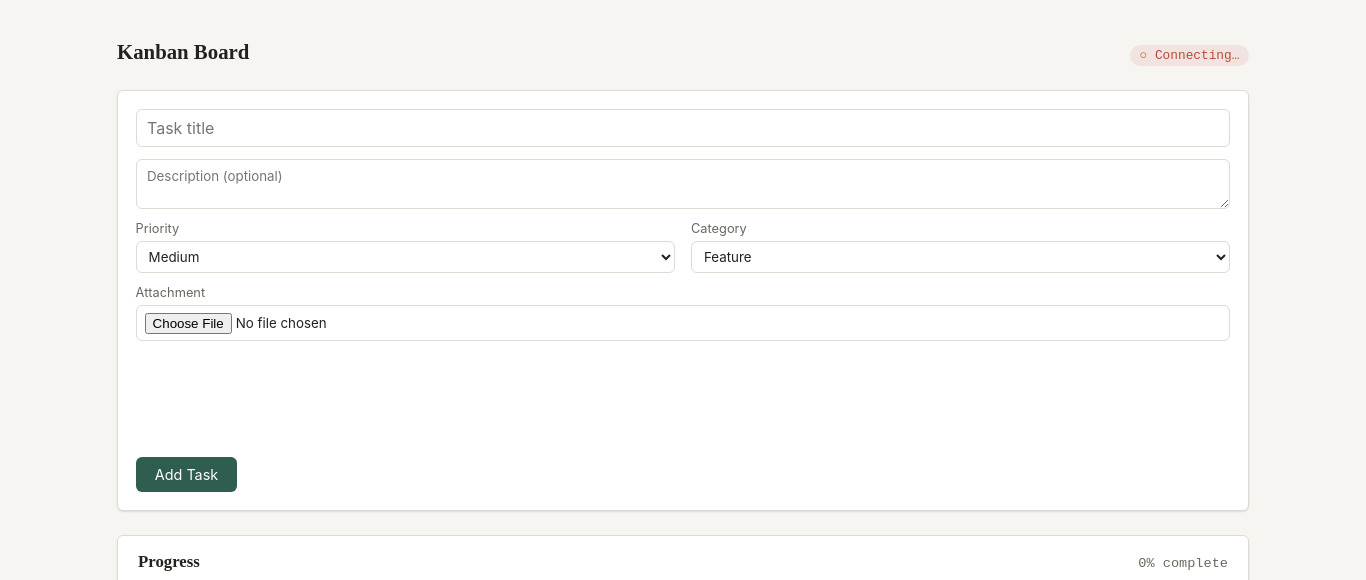
it: rejects task creation gracefully when the server acknowledges failure
Click the button "Add Task" at (186, 475), box [136,457,237,492]
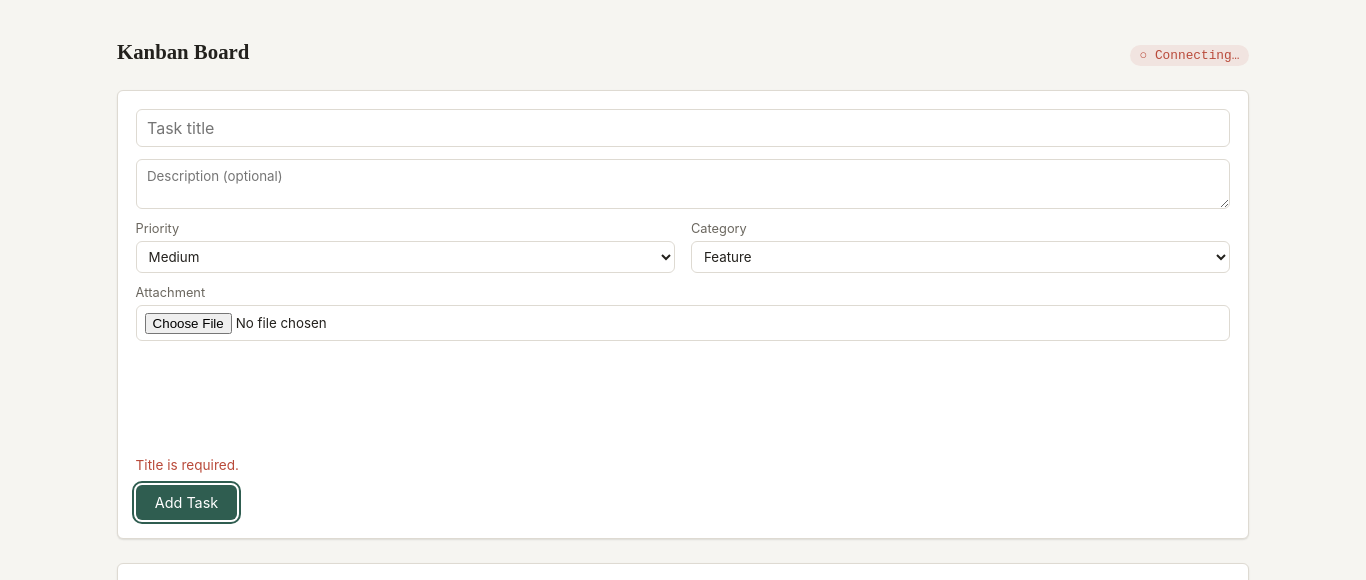
Result: the message shows "Title is required" at [136,457,239,473]
